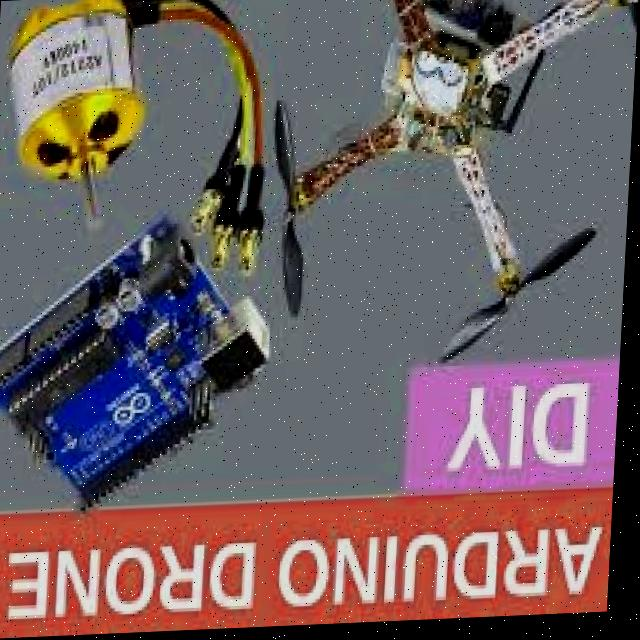drone: (258, 0, 638, 369)
